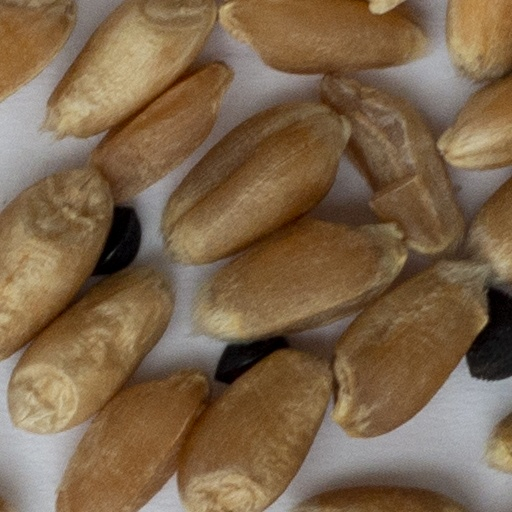Agrostemma-poly: (467, 289, 511, 379)
Fallopia-Convolvulus-poly: (216, 337, 288, 381), (94, 209, 139, 277)
